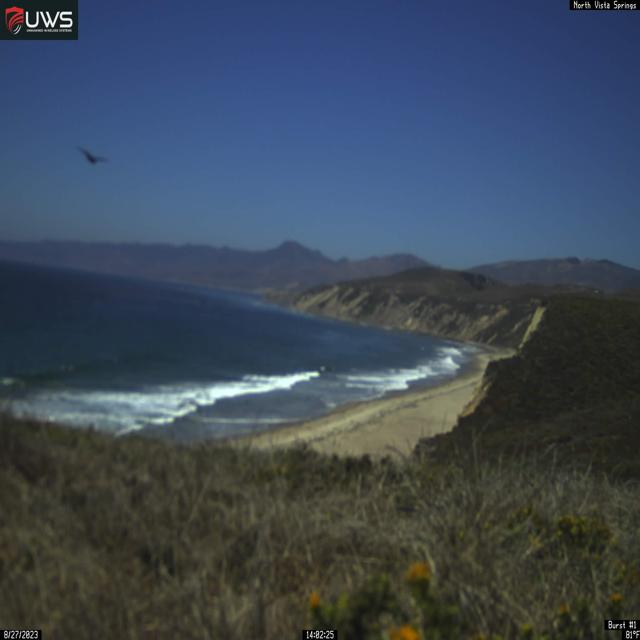bird: (76, 145, 110, 166)
